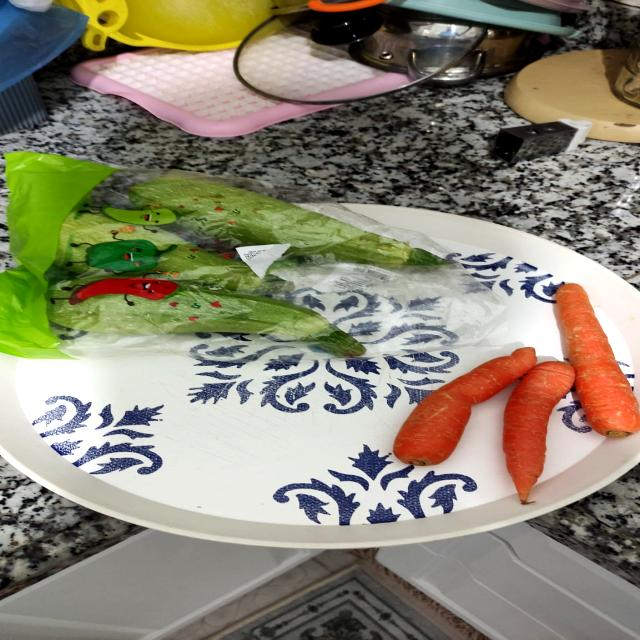carrot: (380, 343, 540, 471), (529, 272, 640, 441), (492, 358, 594, 508)
zucchini: (124, 169, 472, 275), (41, 280, 400, 363)
